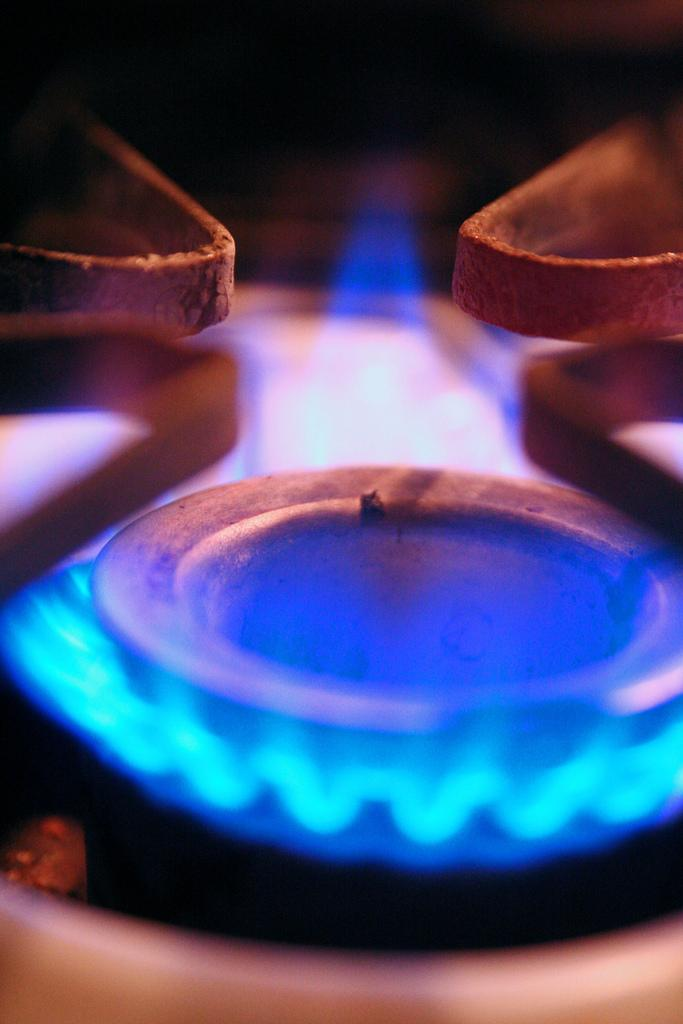fire: (165, 662, 640, 862), (240, 290, 560, 502)
